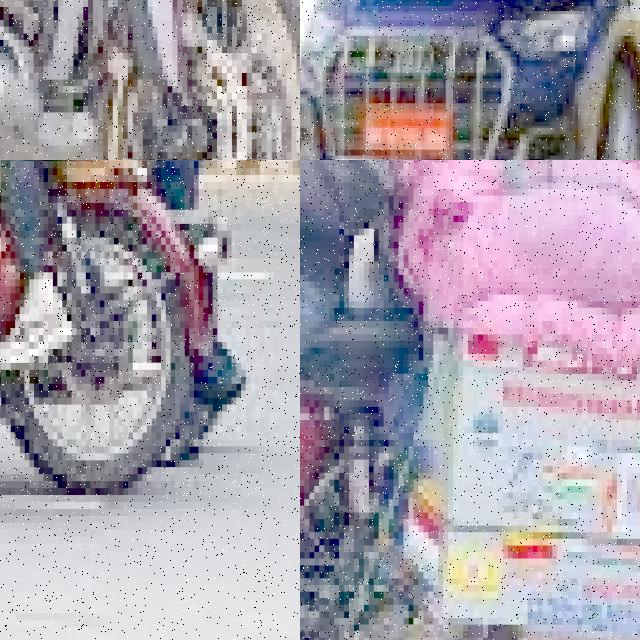bike: (0, 160, 231, 509), (300, 160, 413, 640), (0, 0, 300, 160)
car: (300, 0, 640, 160)
